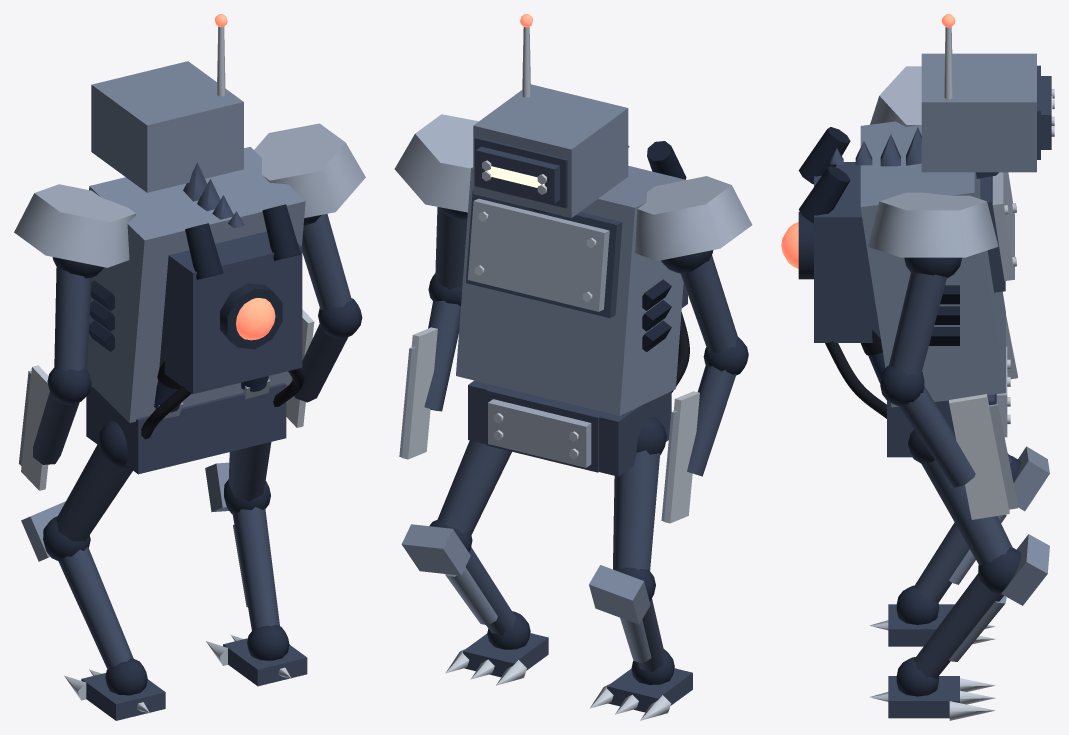
File: enemy_drifter.glb
The picture shows the model from 3 angles, left to right: view 1: azimuth 30°, elevation 25°; view 2: azimuth 150°, elevation 25°; view 3: azimuth 270°, elevation 25°; orthographic projection. The views are drawn at different scales.
Visible parts, largest first — view 1: drifter_torso, drifter_head, drifter_pack, drifter_pelvis, drifter_pauldron_l, drifter_pauldron_r, drifter_leg_l_shin, drifter_leg_r_shin, drifter_leg_l_thigh, drifter_upper_arm_l, drifter_upper_arm_r, drifter_leg_r_sole (+24 smaller); view 2: drifter_torso, drifter_head, drifter_chest_upper_face, drifter_pauldron_l, drifter_pauldron_r, drifter_pelvis, drifter_pelvis_plate_face, drifter_leg_l_thigh, drifter_leg_r_thigh, drifter_upper_arm_l, drifter_chest_upper_back, drifter_forearm_l (+27 smaller); view 3: drifter_torso, drifter_head, drifter_pack, drifter_pauldron_r, drifter_blade_r, drifter_upper_arm_r, drifter_leg_r_shin, drifter_leg_r_thigh, drifter_forearm_r, drifter_pauldron_l, drifter_leg_r_sole, drifter_leg_l_shin (+26 smaller).
Boxes of the visible parts, x1,y1,x2,y2 form: drifter_torso: [87, 146, 305, 422]; drifter_head: [91, 61, 243, 192]; drifter_pack: [159, 231, 302, 394]; drifter_pelvis: [86, 383, 286, 474]; drifter_pauldron_l: [14, 184, 135, 267]; drifter_pauldron_r: [254, 123, 365, 217]; drifter_leg_l_shin: [58, 547, 133, 669]; drifter_leg_r_shin: [232, 507, 279, 630]; drifter_leg_l_thigh: [56, 443, 132, 541]; drifter_upper_arm_l: [54, 267, 91, 370]; drifter_upper_arm_r: [302, 213, 351, 311]; drifter_leg_r_sole: [223, 638, 307, 686]; drifter_torso: [456, 166, 685, 415]; drifter_head: [473, 84, 628, 217]; drifter_chest_upper_face: [467, 198, 609, 311]; drifter_pauldron_l: [635, 176, 752, 260]; drifter_pauldron_r: [394, 114, 478, 212]; drifter_pelvis: [468, 380, 671, 476]; drifter_pelvis_plate_face: [488, 399, 591, 467]; drifter_leg_l_thigh: [613, 450, 660, 571]; drifter_leg_r_thigh: [437, 440, 511, 536]; drifter_upper_arm_l: [680, 255, 738, 353]; drifter_chest_upper_back: [466, 190, 622, 317]; drifter_forearm_l: [687, 365, 736, 476]; drifter_torso: [860, 121, 1005, 407]; drifter_head: [921, 53, 1036, 172]; drifter_pack: [814, 162, 880, 342]; drifter_pauldron_r: [868, 192, 998, 257]; drifter_blade_r: [949, 394, 1009, 519]; drifter_upper_arm_r: [889, 272, 947, 375]; drifter_leg_r_shin: [914, 573, 1003, 678]; drifter_leg_r_thigh: [921, 460, 1012, 565]; drifter_forearm_r: [899, 386, 975, 487]; drifter_pauldron_l: [870, 66, 921, 126]; drifter_leg_r_sole: [888, 676, 959, 718]; drifter_leg_l_shin: [914, 522, 969, 603].
Size of the model in its own units: 0.8754 by 1.7 by 0.6257.
